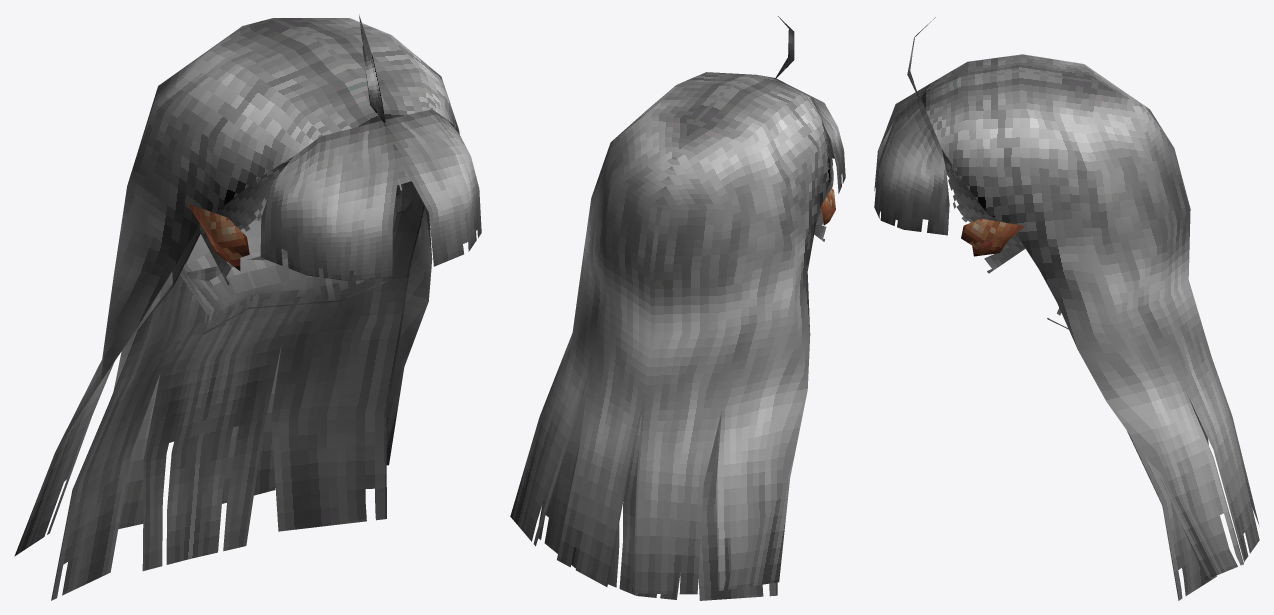
The model's file is f_hair003.obj.
3 views of the same model, side by side, from view 1: azimuth 30°, elevation 25°; view 2: azimuth 150°, elevation 25°; view 3: azimuth 270°, elevation 25° (orthographic). The views are drawn at different scales.
Parts seen in each view (by area): view 1: editpl_f-0000-1901, editpl_f-0000-1902; view 2: editpl_f-0000-1901; view 3: editpl_f-0000-1901, editpl_f-0000-1902.
Part boxes in pixels (x1,y1,x2,y2): editpl_f-0000-1901: (14,14,481,600); editpl_f-0000-1902: (187,203,249,270); editpl_f-0000-1901: (510,16,845,600); editpl_f-0000-1901: (874,17,1259,600); editpl_f-0000-1902: (961,218,1024,256).
Size of the model in its own units: 26.05 by 45.23 by 29.6.
